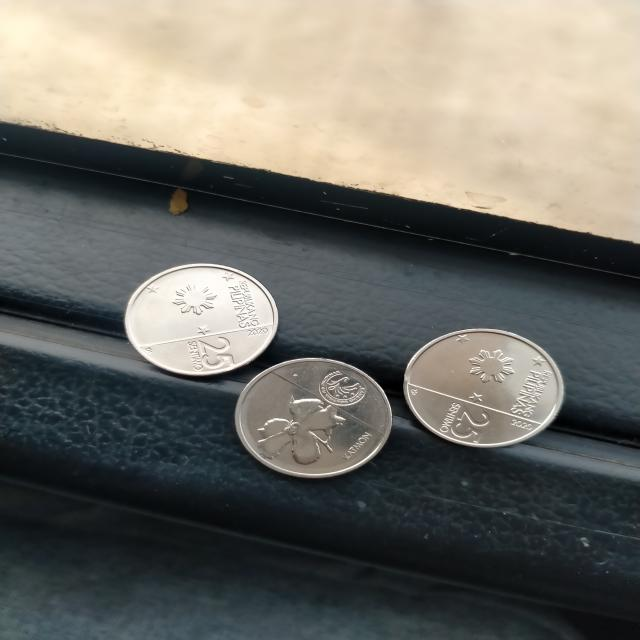25Cent_New_Back: (249, 394, 350, 466)
25Cent_New_Front: (432, 394, 501, 446), (183, 340, 239, 373)
